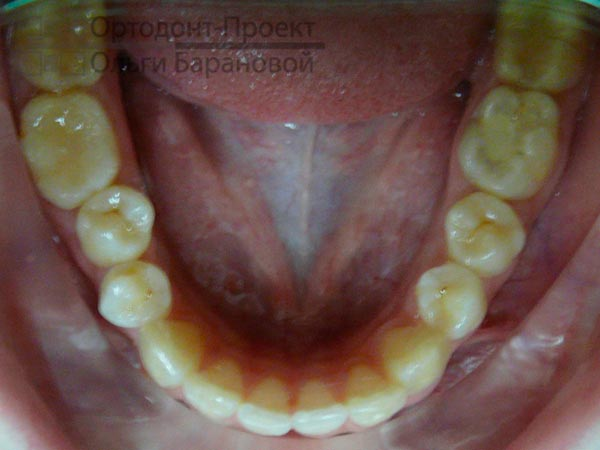LL1BC_decay: (446, 194, 524, 272)
LL2BC_decay: (457, 88, 557, 196)
LLCI_healthy: (294, 382, 345, 437)
LLC_decay: (415, 265, 483, 334)
LLC_healthy: (382, 326, 444, 393)
LLLI_healthy: (346, 365, 402, 424)
LR1BC_decay: (98, 262, 169, 326)
LR1M_decay: (22, 94, 117, 206)
LR2BC_decay: (77, 186, 152, 264)
LRCI_healthy: (240, 379, 290, 435)
LRC_decay: (140, 320, 204, 385)
LRLI_healthy: (186, 360, 240, 418)
